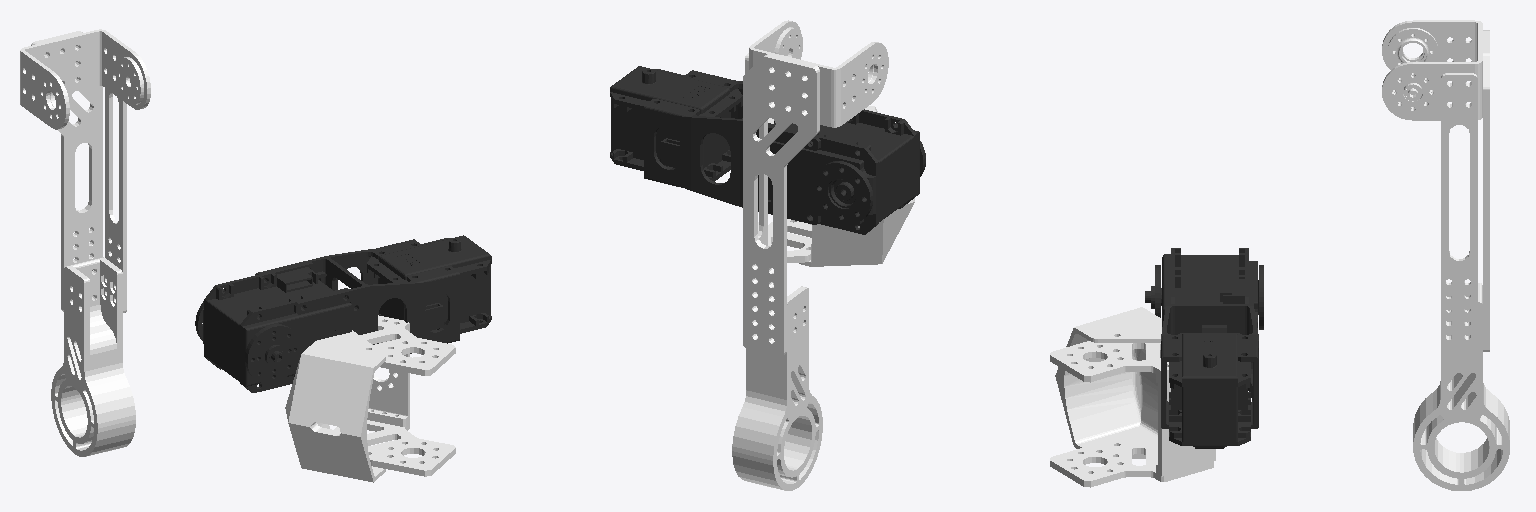
robot.urdf — 装配体_new_left:
<?xml version="1.0" encoding="utf-8"?>
<!-- This URDF was automatically created by SolidWorks to URDF Exporter! Originally created by [author] ([email redacted]) 
     Commit Version: 1.6.0-4-g7f85cfe  Build Version: 1.6.7995.38578
     For more information, please see http://wiki.ros.org/sw_urdf_exporter -->
<robot
  name="装配体_new_left">
  <link
    name="chest">
    <inertial>
      <origin
        xyz="-0.00012116 0.0032746 -0.025058"
        rpy="0 0 0" />
      <mass
        value="0.53191" />
      <inertia
        ixx="0.00038389"
        ixy="1.2132E-09"
        ixz="3.017E-07"
        iyy="0.00044413"
        iyz="-2.7092E-06"
        izz="0.00029428" />
    </inertial>
    <visual>
      <origin
        xyz="0 0 0"
        rpy="0 0 0" />
      <geometry>
        <mesh
          filename="package://装配体_new_left/meshes/chest.STL" />
      </geometry>
      <material
        name="">
        <color
          rgba="1 1 1 1" />
      </material>
    </visual>
    <collision>
      <origin
        xyz="0 0 0"
        rpy="0 0 0" />
      <geometry>
        <mesh
          filename="package://装配体_new_left/meshes/chest.STL" />
      </geometry>
    </collision>
  </link>
  <link
    name="left_shoulder">
    <inertial>
      <origin
        xyz="-3.4807E-09 0.023606 -0.0044032"
        rpy="0 0 0" />
      <mass
        value="0.044031" />
      <inertia
        ixx="1.2764E-05"
        ixy="-6.4514E-12"
        ixz="-2.33E-11"
        iyy="1.5491E-05"
        iyz="2.6082E-06"
        izz="1.2414E-05" />
    </inertial>
    <visual>
      <origin
        xyz="0 0 0"
        rpy="0 0 0" />
      <geometry>
        <mesh
          filename="package://装配体_new_left/meshes/left_shoulder.STL" />
      </geometry>
      <material
        name="">
        <color
          rgba="1 1 1 1" />
      </material>
    </visual>
    <collision>
      <origin
        xyz="0 0 0"
        rpy="0 0 0" />
      <geometry>
        <mesh
          filename="package://装配体_new_left/meshes/left_shoulder.STL" />
      </geometry>
    </collision>
  </link>
  <joint
    name="left_arm_upper"
    type="revolute">
    <origin
      xyz="-0.0779 0 0.0134"
      rpy="1.5708 -1.5708 0" />
    <parent
      link="chest" />
    <child
      link="left_shoulder" />
    <axis
      xyz="0 1 0" />
    <limit
      lower="0"
      upper="0"
      effort="0"
      velocity="0" />
  </joint>
  <link
    name="left_arm">
    <inertial>
      <origin
        xyz="-0.0279 2.8453E-05 -0.046835"
        rpy="0 0 0" />
      <mass
        value="0.14644" />
      <inertia
        ixx="5.2957E-05"
        ixy="6.2608E-11"
        ixz="-2.025E-07"
        iyy="5.852E-05"
        iyz="1.1014E-07"
        izz="3.6597E-05" />
    </inertial>
    <visual>
      <origin
        xyz="0 0 0"
        rpy="0 0 0" />
      <geometry>
        <mesh
          filename="package://装配体_new_left/meshes/left_arm.STL" />
      </geometry>
      <material
        name="">
        <color
          rgba="0.25098 0.25098 0.25098 1" />
      </material>
    </visual>
    <collision>
      <origin
        xyz="0 0 0"
        rpy="0 0 0" />
      <geometry>
        <mesh
          filename="package://装配体_new_left/meshes/left_arm.STL" />
      </geometry>
    </collision>
  </link>
  <joint
    name="left_arm_middle"
    type="revolute">
    <origin
      xyz="0.0281 0.0258 -0.029"
      rpy="0 0 0" />
    <parent
      link="left_shoulder" />
    <child
      link="left_arm" />
    <axis
      xyz="-1 0 0" />
    <limit
      lower="0"
      upper="0"
      effort="0"
      velocity="0" />
  </joint>
  <link
    name="left_hand">
    <inertial>
      <origin
        xyz="0.070329 -0.014057 -0.021407"
        rpy="0 0 0" />
      <mass
        value="0.06427" />
      <inertia
        ixx="1.2951E-05"
        ixy="-2.5065E-06"
        ixz="-3.8138E-07"
        iyy="5.8741E-05"
        iyz="1.7885E-12"
        izz="6.1018E-05" />
    </inertial>
    <visual>
      <origin
        xyz="0 0 0"
        rpy="0 0 0" />
      <geometry>
        <mesh
          filename="package://装配体_new_left/meshes/left_hand.STL" />
      </geometry>
      <material
        name="">
        <color
          rgba="1 1 1 1" />
      </material>
    </visual>
    <collision>
      <origin
        xyz="0 0 0"
        rpy="0 0 0" />
      <geometry>
        <mesh
          filename="package://装配体_new_left/meshes/left_hand.STL" />
      </geometry>
    </collision>
  </link>
  <joint
    name="left_arm_lower"
    type="revolute">
    <origin
      xyz="-0.0281 0.02335 -0.1076"
      rpy="0 0 0" />
    <parent
      link="left_arm" />
    <child
      link="left_hand" />
    <axis
      xyz="0 1 0" />
    <limit
      lower="0"
      upper="0"
      effort="0"
      velocity="0" />
  </joint>
</robot>

--- Facts derived from the render (not from the file) ---
The picture shows the robot from 3 angles, left to right: view 1: azimuth 30°, elevation 25°; view 2: azimuth 150°, elevation 25°; view 3: azimuth 270°, elevation 25°; orthographic projection.
Robot: 装配体_new_left — 4 links, 3 joints (3 revolute); root link chest; default pose: all joints at 0.
Links seen in each view (by area): view 1: left_hand, left_arm, left_shoulder; view 2: left_hand, left_arm, left_shoulder; view 3: left_hand, left_arm, left_shoulder.
Boxes of the visible links, bbox=[...] form: left_hand: bbox=[20, 29, 150, 456]; left_arm: bbox=[195, 235, 491, 392]; left_shoulder: bbox=[285, 315, 455, 482]; left_hand: bbox=[732, 20, 888, 490]; left_arm: bbox=[610, 66, 925, 234]; left_shoulder: bbox=[758, 106, 914, 266]; left_hand: bbox=[1382, 20, 1509, 490]; left_arm: bbox=[1145, 248, 1263, 448]; left_shoulder: bbox=[1050, 307, 1215, 487].
Bounding box of the posed robot: 0.1717 × 0.1988 × 0.2035 m (x, y, z).
3 mesh visuals loaded from 4 distinct referenced files (3 binary STL); not drawn: 1 (reference not matched to a file when rendering).